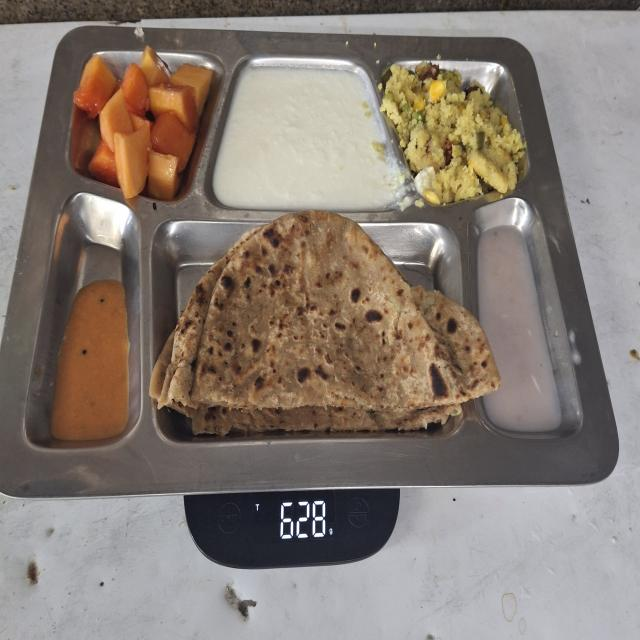Chapati: (149, 210, 478, 444)
Chutney: (47, 284, 135, 450)
Curd: (215, 58, 400, 213)
Papaya: (69, 44, 212, 204)
Porridge: (480, 233, 562, 433)
Upma: (389, 66, 525, 200)
